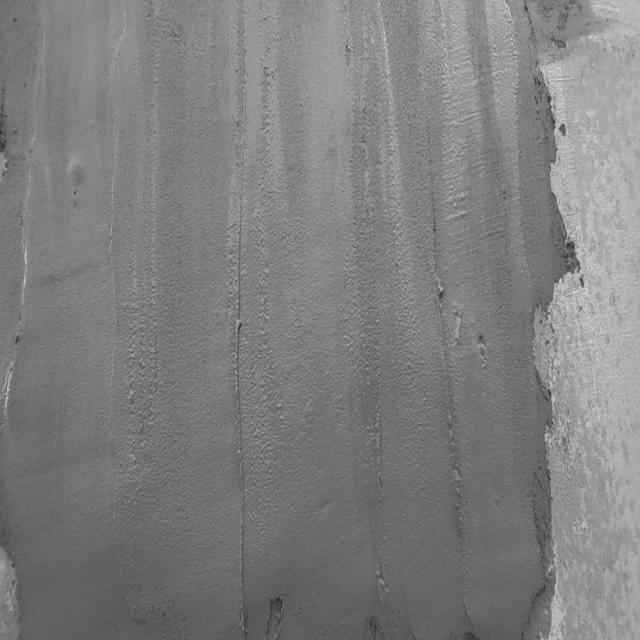trowels marks: (427, 150, 464, 529), (226, 61, 248, 640)
